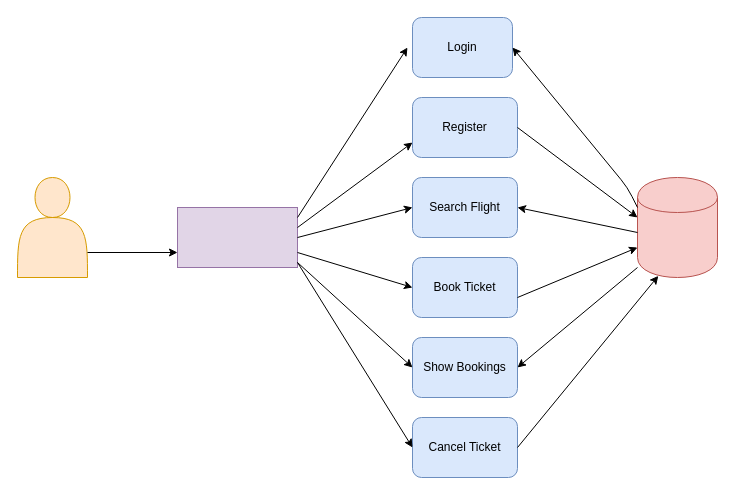
This 735x495 diagram has some shape labels left out. The centre of each missing label's shape, as x and y in pixels:
DB: [677,227]
Functionalities: [237,237]
